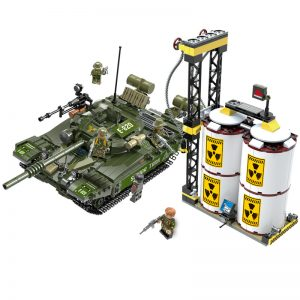Battle Tank: (15, 83, 183, 214)
